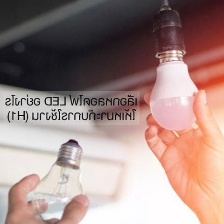light_bulb: (26, 132, 93, 224), (146, 43, 202, 140)
